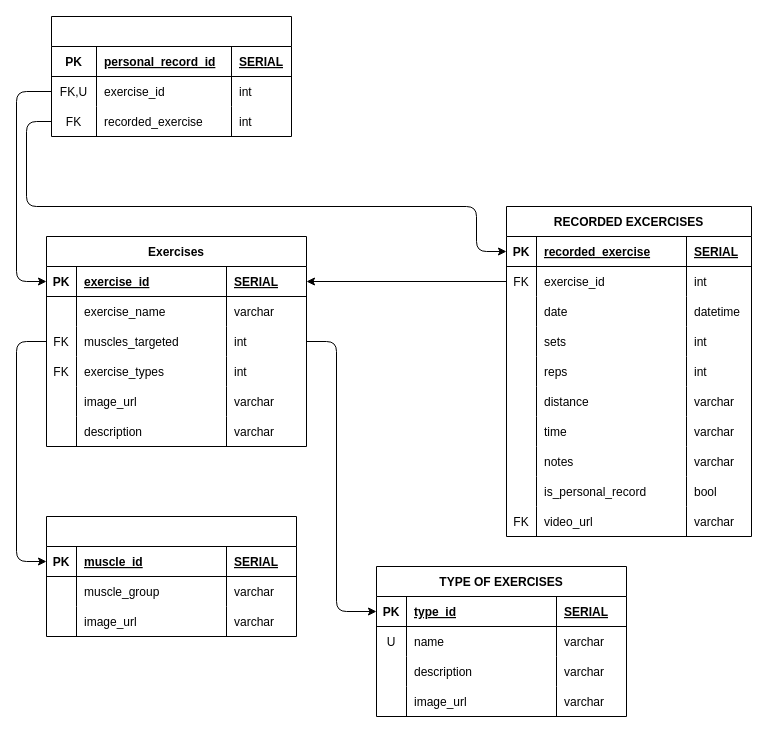
Some shapes in this 768 by 733 pixel diagram are drawn without their labels. Each missing label, with the box of its shape:
MUSCLES: (46, 516, 296, 636)
PERSONAL RECORDS: (50, 16, 292, 136)
